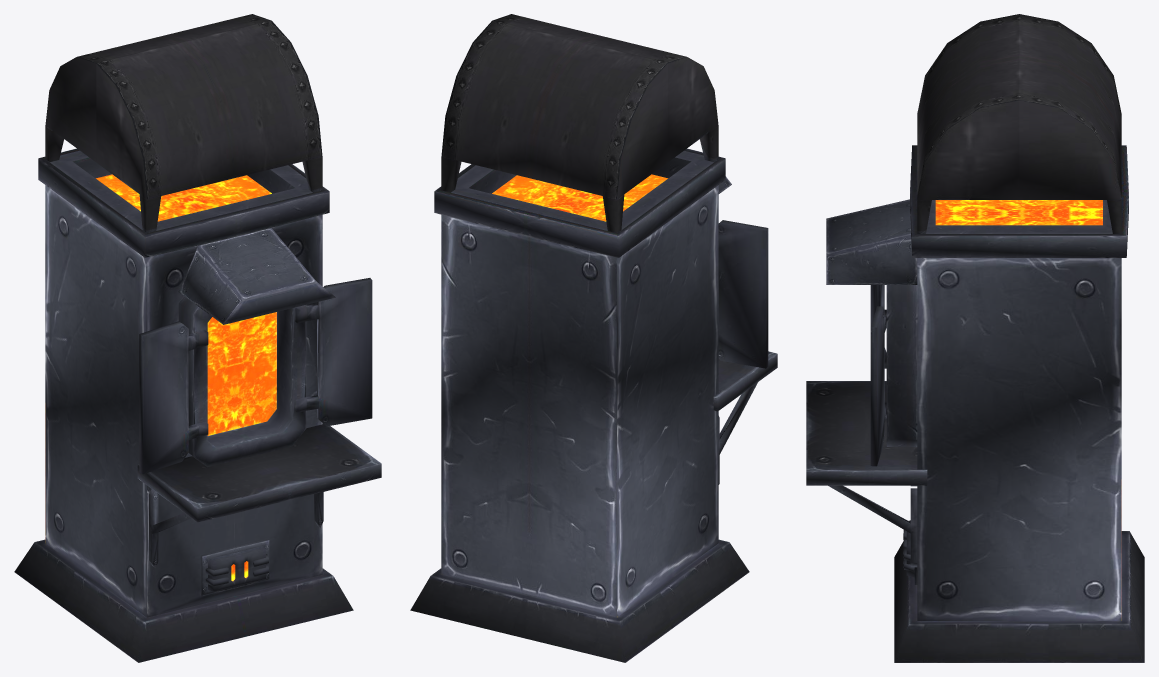
File: Furnace.glb
3 views of the same model, side by side, from view 1: azimuth 30°, elevation 25°; view 2: azimuth 150°, elevation 25°; view 3: azimuth 270°, elevation 25° (orthographic).
Parts seen in each view (by area): view 1: Cube; view 2: Cube; view 3: Cube.
Boxes of the visible parts, x1,y1,x2,y2 form: Cube: [14, 14, 381, 662]; Cube: [410, 14, 777, 662]; Cube: [806, 14, 1144, 662].
Size of what is drawn, in the model's own units: 2.63 by 5.97 by 3.31.
Materials: 1 (1 with a texture image).
